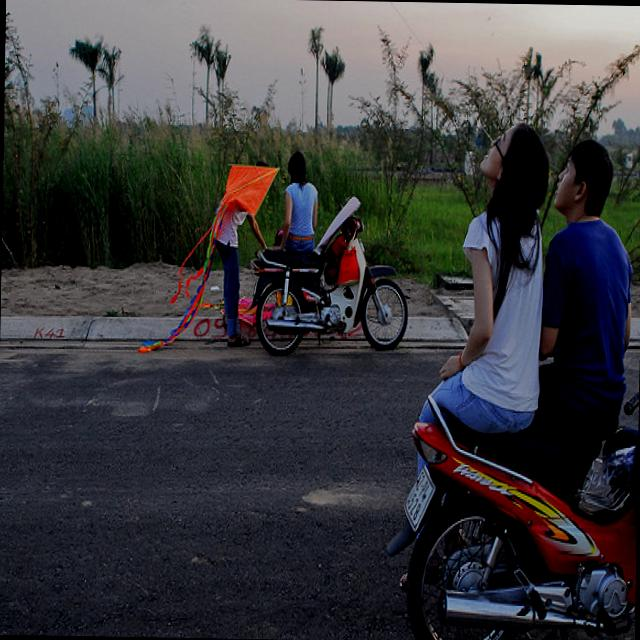Vehicle: (382, 321, 640, 640), (247, 213, 408, 359)
